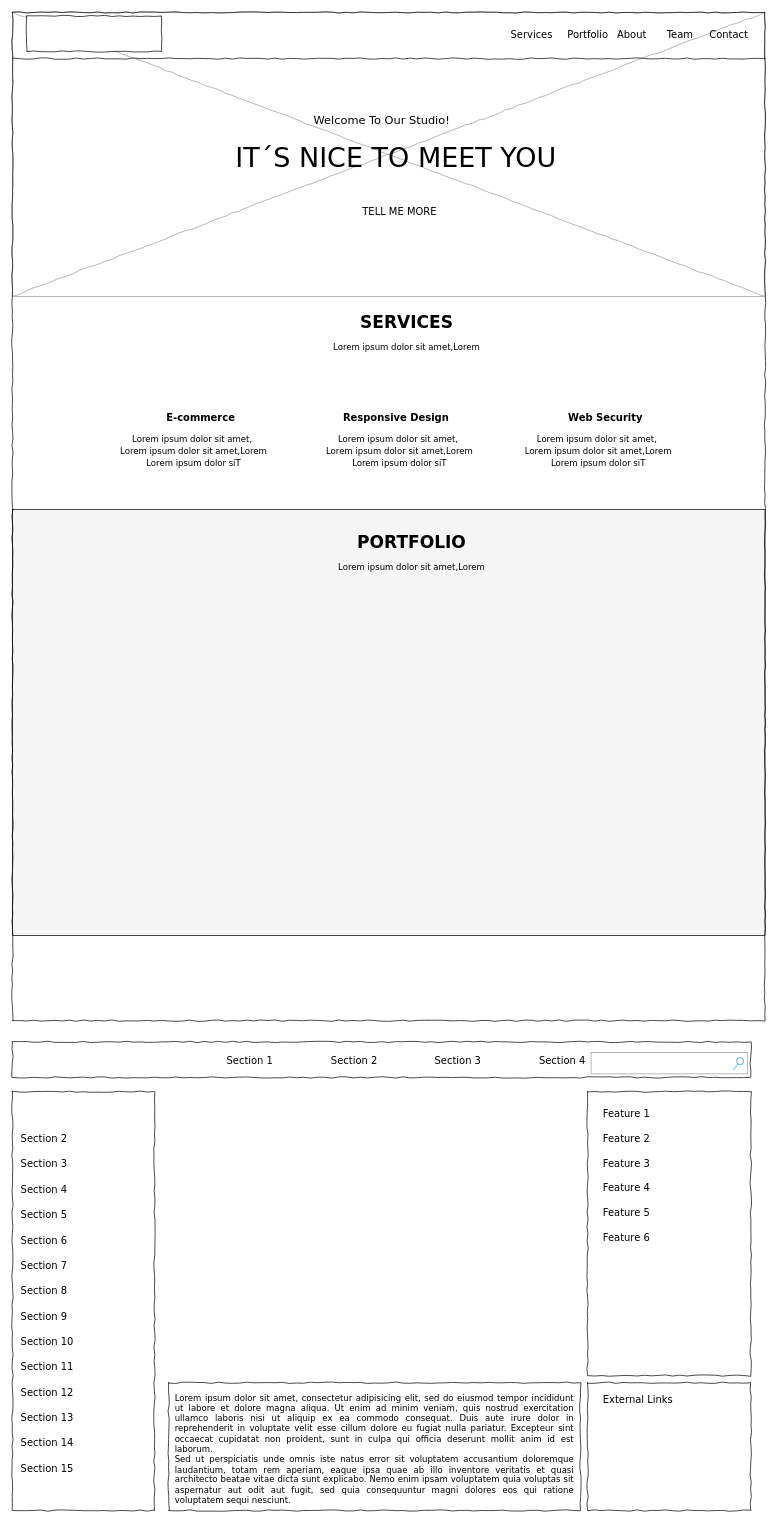
This 777x1523 diagram has some shape labels left out. The shapes that lost their labels are listed below. From the top down, each one's centre as x and y in pixels, then its label:
At (94,33): "LOGO".
At (668,1063): "Search".
